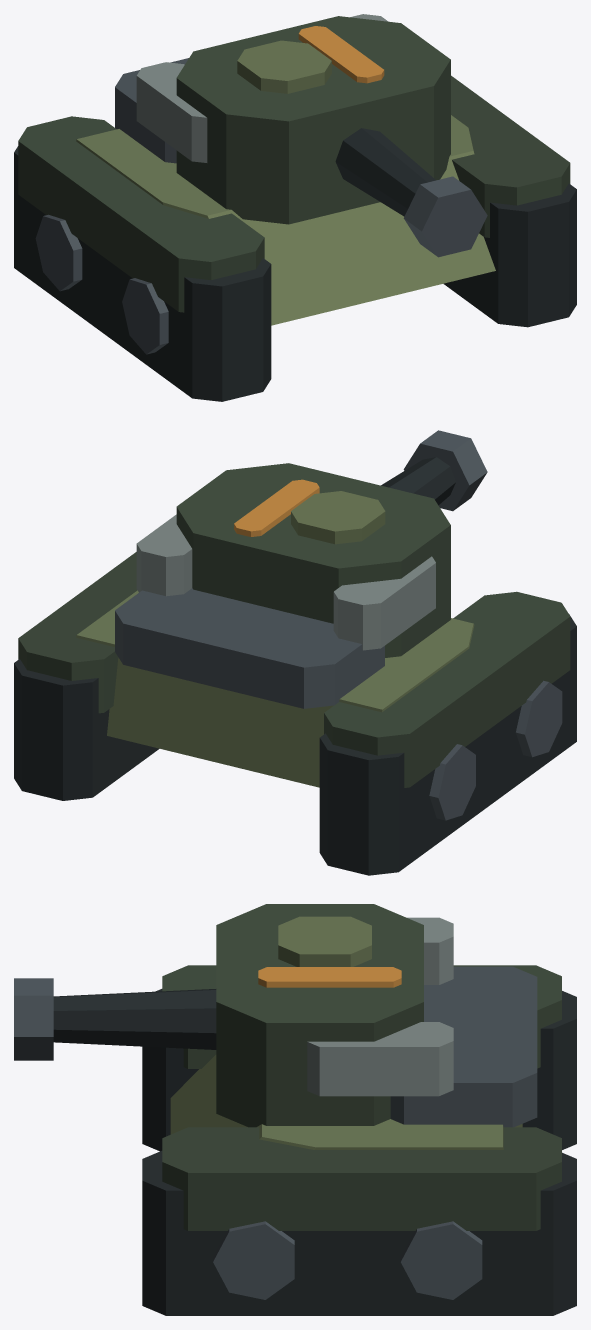
File: heavy_tank.glb
3 renders of one model, top to bottom at view 1: azimuth 30°, elevation 25°; view 2: azimuth 150°, elevation 25°; view 3: azimuth 270°, elevation 25°, orthographic. The views are drawn at different scales.
Parts seen in each view (by area): view 1: heavy_tank; view 2: heavy_tank; view 3: heavy_tank.
Boxes of the visible parts, x1,y1,x2,y2 form: heavy_tank: (14, 14, 576, 401); heavy_tank: (14, 430, 576, 875); heavy_tank: (14, 904, 576, 1315).
Bounding box in the file's own units: 1.02 × 0.591 × 1.14.
